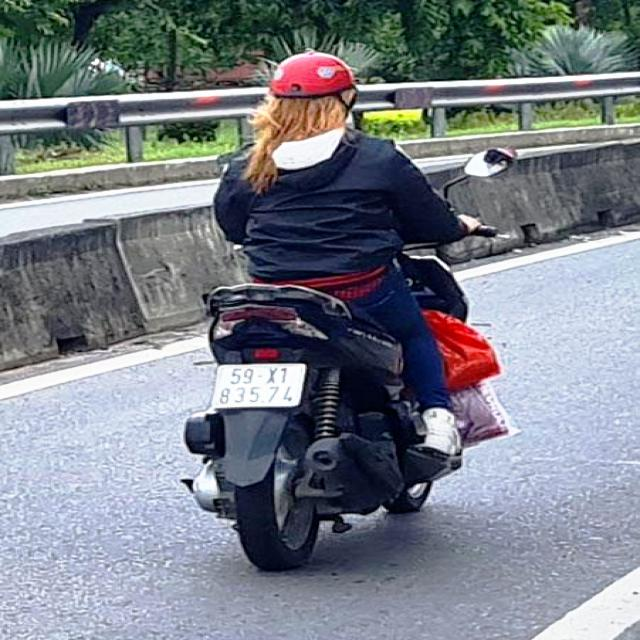license_plate: (211, 366, 306, 408)
